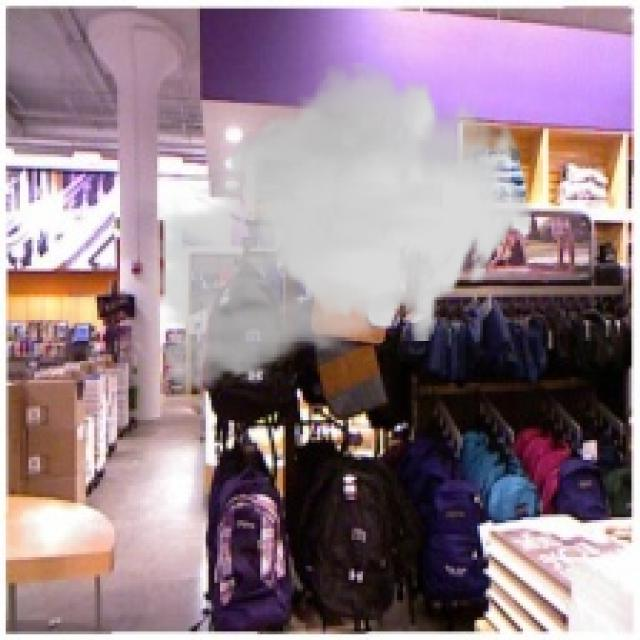smoke: (137, 63, 534, 406)
